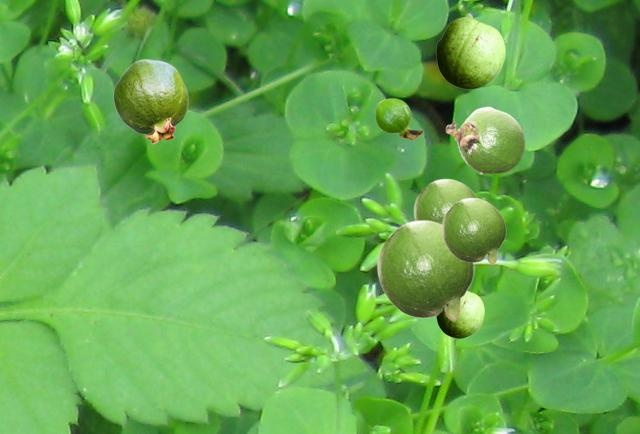guava: (376, 219, 473, 321), (113, 59, 187, 143), (445, 106, 524, 173), (436, 17, 504, 88), (441, 197, 505, 264), (413, 178, 478, 222), (436, 291, 483, 337), (375, 98, 422, 139)
